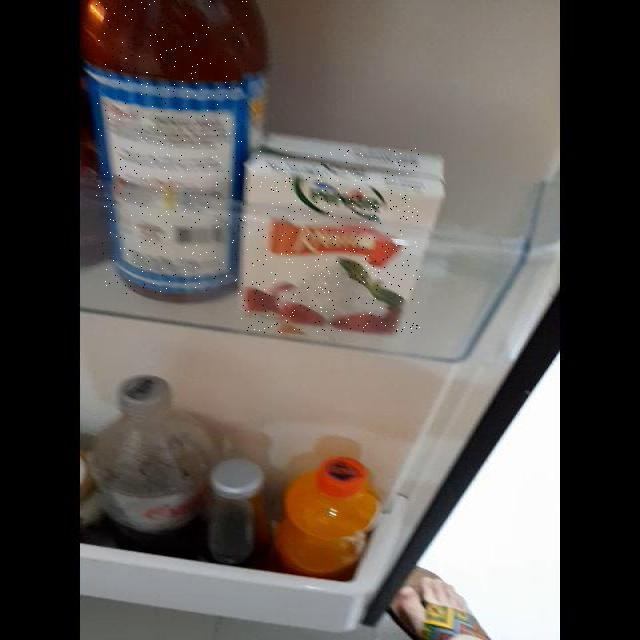cream cheese: (241, 148, 420, 333)
sauce: (96, 0, 248, 295)
